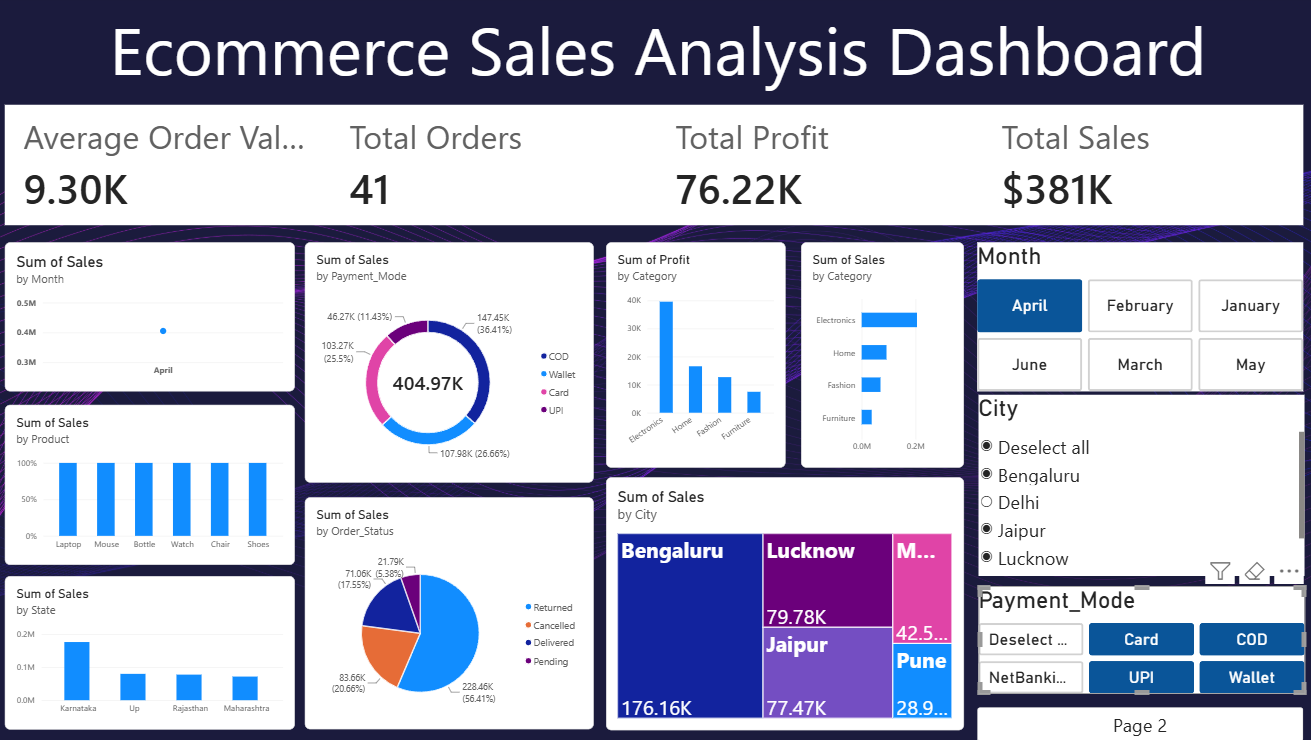

This screenshot's page, from the dashboard's own definition file:
{"tool":"powerbi","page":{"name":"Page 1","canvas":[1920,1080],"ordinal":0},"visuals":[{"type":"cardVisual","fields":{"Data":["DAX Measure.Average Order Value","DAX Measure.Total Orders","DAX Measure.Total Profit","DAX Measure.Total Sales","DAX Measure.Average Order Value"]},"box":[20,158,1880,174],"z":0},{"type":"textbox","box":[10,10,1910,147.5],"z":1000},{"type":"lineChart","fields":{"Category":["public orders.Month"],"Y":["Sum(public orders.Sales)"]},"box":[20,356,420,216],"z":2000},{"type":"barChart","fields":{"Category":["public orders.Category"],"Y":["Sum(public orders.Sales)"]},"box":[1172,356,236,326],"z":3000},{"type":"hundredPercentStackedColumnChart","fields":{"Category":["public orders.Product"],"Y":["Sum(public orders.Sales)"]},"box":[20,592,420,232],"z":4000},{"type":"treemap","fields":{"Group":["public orders.City"],"Values":["Sum(public orders.Sales)"]},"box":[890,696,518,366],"z":5000},{"type":"donutChart","fields":{"Category":["public orders.Payment_Mode"],"Y":["Sum(public orders.Sales)"]},"box":[454,356,418,348],"z":6000},{"type":"pieChart","fields":{"Category":["public orders.Order_Status"],"Y":["Sum(public orders.Sales)"]},"box":[454,726,418,336],"z":7000},{"type":"columnChart","fields":{"Category":["public orders.State"],"Y":["Sum(public orders.Sales)"]},"box":[20,840,420,222],"z":8000},{"type":"columnChart","fields":{"Category":["public orders.Category"],"Y":["Sum(public orders.Profit)"]},"box":[890,356,260,326],"z":9000},{"type":"advancedSlicerVisual","fields":{"Values":["public orders.Month"]},"box":[1428,356,472,216],"z":10000},{"type":"listSlicer","fields":{"Values":["public orders.City"]},"box":[1429.6,577.3,472,262],"z":11000},{"type":"advancedSlicerVisual","fields":{"Values":["public orders.Payment_Mode"]},"box":[1429.6,854.2,472.3,155.6],"z":12000},{"type":"pageNavigator","box":[1427.8,1029.7,472.3,50.7],"z":13000}]}

Visuals, with their boxes in screenshot pixels (x1, y1, x2, y2), scaled from the page's 1920x1080 canvas onto the 1311x740 screenshot:
cardVisual - DAX Measure.Average Order Value x DAX Measure.Total Orders: 14:108:1297:227
textbox: 7:7:1310:108
lineChart - public orders.Month x Sum(public orders.Sales): 14:244:300:392
barChart - public orders.Category x Sum(public orders.Sales): 800:244:961:467
hundredPercentStackedColumnChart - public orders.Product x Sum(public orders.Sales): 14:406:300:565
treemap - public orders.City x Sum(public orders.Sales): 608:477:961:728
donutChart - public orders.Payment_Mode x Sum(public orders.Sales): 310:244:595:482
pieChart - public orders.Order_Status x Sum(public orders.Sales): 310:497:595:728
columnChart - public orders.State x Sum(public orders.Sales): 14:576:300:728
columnChart - public orders.Category x Sum(public orders.Profit): 608:244:785:467
advancedSlicerVisual - public orders.Month: 975:244:1297:392
listSlicer - public orders.City: 976:396:1298:575
advancedSlicerVisual - public orders.Payment_Mode: 976:585:1299:692
pageNavigator: 975:706:1297:739
